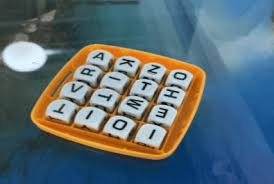boggle: (28, 42, 207, 160)
